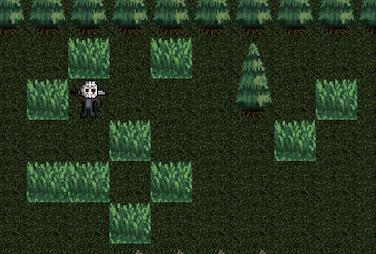Jason: (69, 78, 108, 118)
Obstacle: (28, 0, 67, 39), (70, 0, 109, 39), (111, 0, 150, 39), (151, 0, 190, 39), (192, 0, 231, 39), (234, 0, 273, 39), (275, 0, 314, 39), (316, 0, 355, 39), (234, 81, 273, 119), (0, 0, 28, 39), (357, 0, 376, 39)
Slow: (68, 38, 111, 79), (151, 38, 194, 79), (108, 119, 151, 160), (27, 160, 70, 201), (69, 160, 112, 201), (149, 160, 192, 201), (109, 202, 152, 243), (274, 119, 317, 160), (316, 78, 359, 119), (27, 79, 69, 120)
